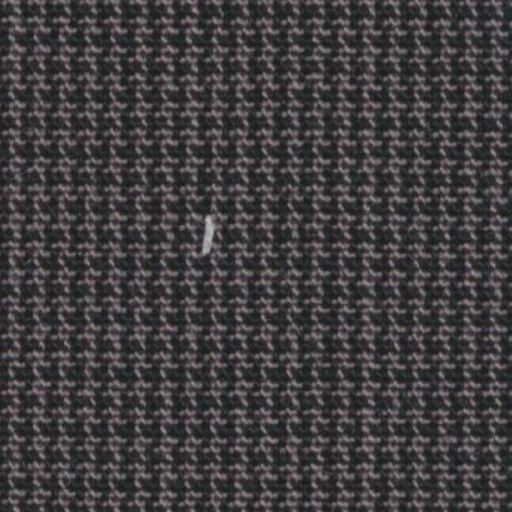DuanSha: (188, 200, 224, 268)
